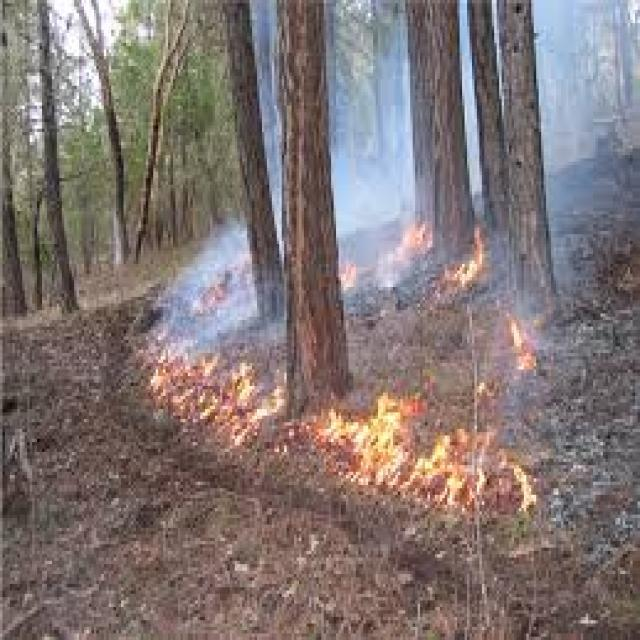Fire: (316, 379, 544, 534), (146, 328, 288, 456), (352, 208, 435, 296), (439, 222, 499, 302), (497, 310, 541, 398)
Smoke: (550, 1, 638, 220), (342, 61, 404, 292), (152, 236, 258, 338)
